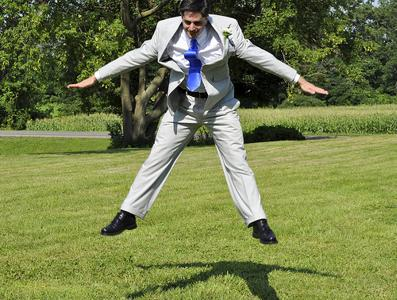person: (67, 2, 327, 247)
